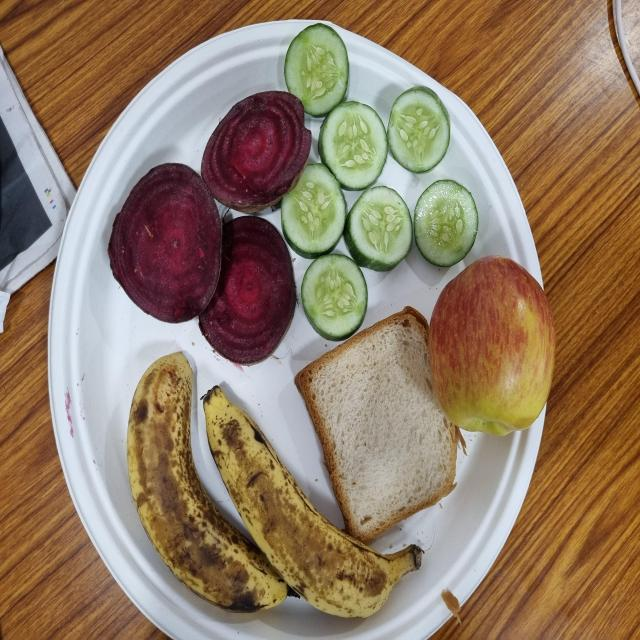apple: (426, 257, 556, 439)
banana: (199, 386, 422, 621), (126, 353, 293, 614)
cucumber: (282, 22, 351, 133), (319, 102, 388, 203), (297, 252, 370, 346), (280, 163, 349, 260), (342, 184, 415, 274), (412, 179, 479, 269), (385, 87, 452, 176)
